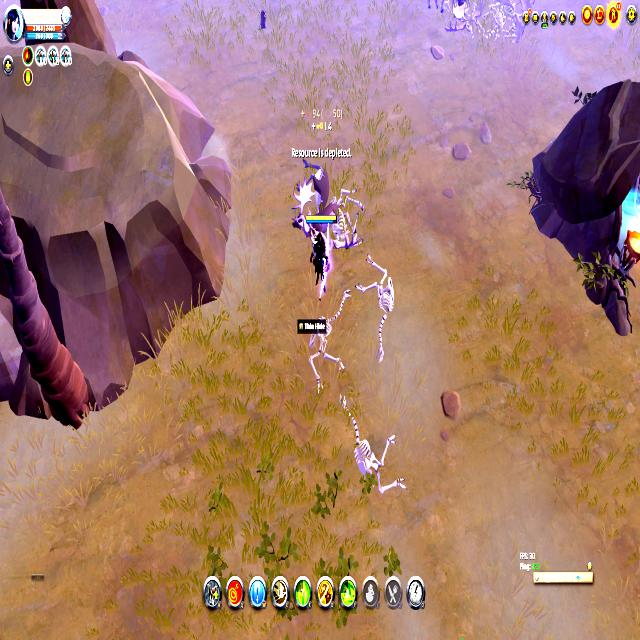mob: (290, 160, 343, 236)
red: (306, 212, 334, 286)
